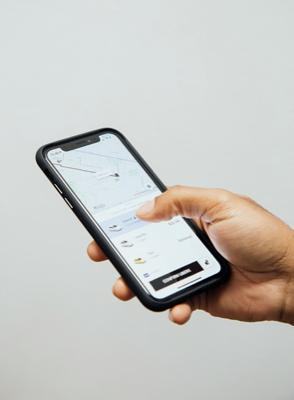cell-phone: (32, 122, 235, 319)
